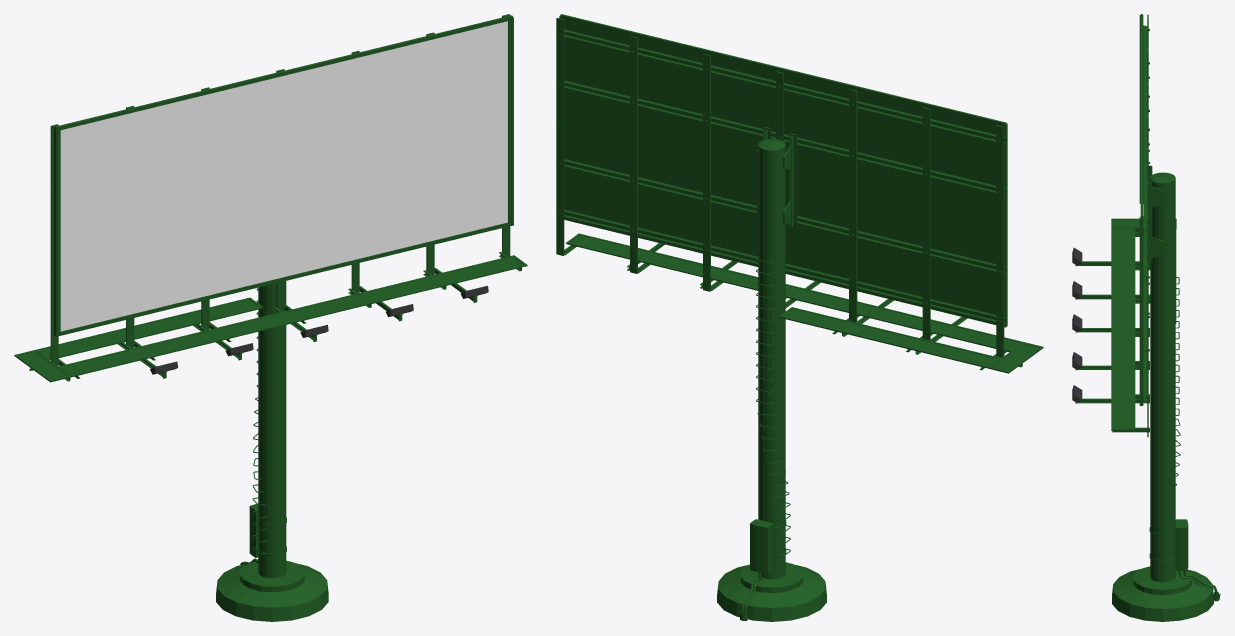
File: Billboard.obj
3 renders of one model, left to right at view 1: azimuth 30°, elevation 25°; view 2: azimuth 150°, elevation 25°; view 3: azimuth 270°, elevation 25°, orthographic. The views are drawn at different scales.
Visible parts, largest first — view 1: Billboard_A; view 2: Billboard_A; view 3: Billboard_A.
Part boxes in pixels (bbox=[...]): Billboard_A: bbox=[14, 14, 527, 621]; Billboard_A: bbox=[556, 14, 1043, 621]; Billboard_A: bbox=[1072, 14, 1220, 621].
Size of the model in its own units: 218 by 232 by 64.25.
